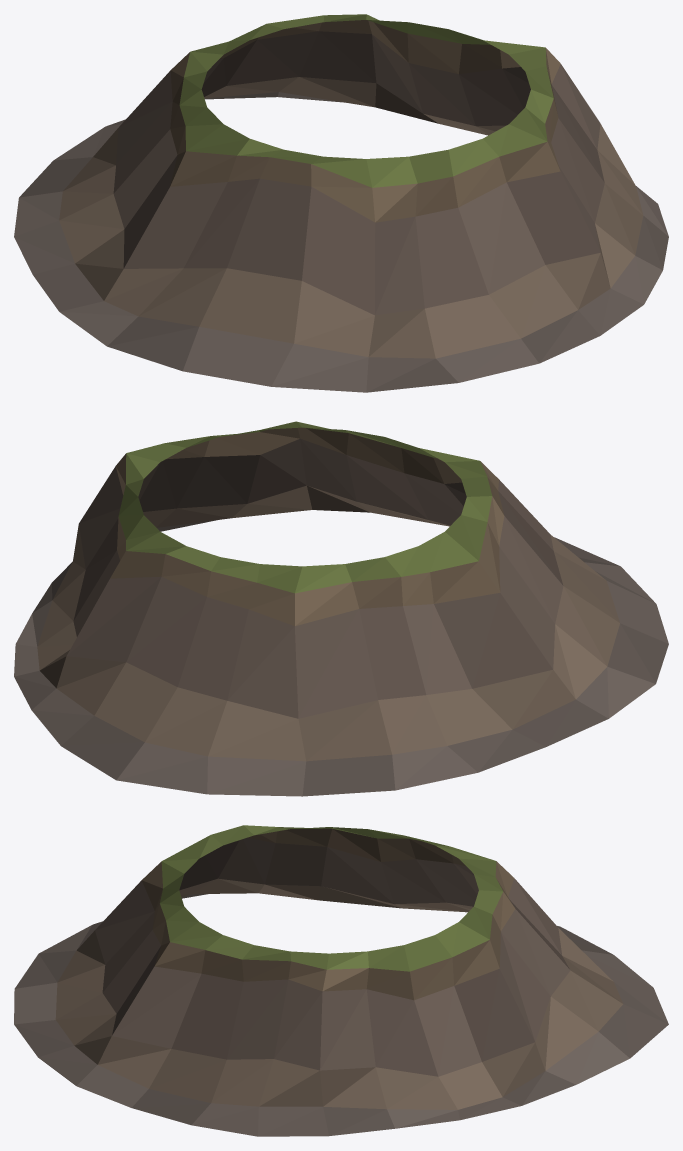
The model's file is headland.glb.
3 views of the same model, one above another, from view 1: azimuth 30°, elevation 25°; view 2: azimuth 150°, elevation 25°; view 3: azimuth 270°, elevation 25° (orthographic). The views are drawn at different scales.
Parts seen in each view (by area): view 1: headland; view 2: headland; view 3: headland.
Boxes of the visible parts, x1,y1,x2,y2 form: headland: (14, 14, 668, 392); headland: (14, 421, 668, 796); headland: (14, 825, 668, 1136).
Bounding box in the file's own units: 95.21 × 24.34 × 106.
